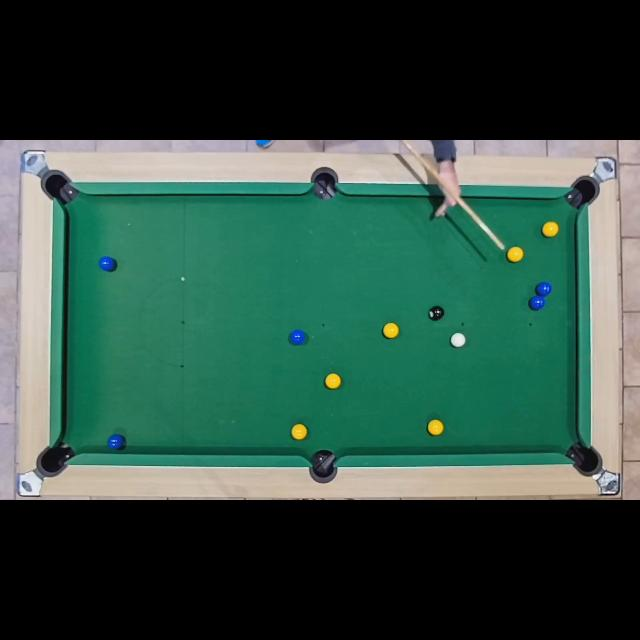Ball: (508, 244, 524, 262), (290, 329, 306, 346), (543, 222, 559, 238), (383, 323, 399, 339), (428, 420, 444, 436), (291, 424, 307, 440), (99, 258, 117, 272), (107, 436, 125, 450), (529, 296, 545, 310), (536, 282, 552, 296), (326, 373, 340, 389), (429, 305, 443, 321), (451, 332, 465, 348)
